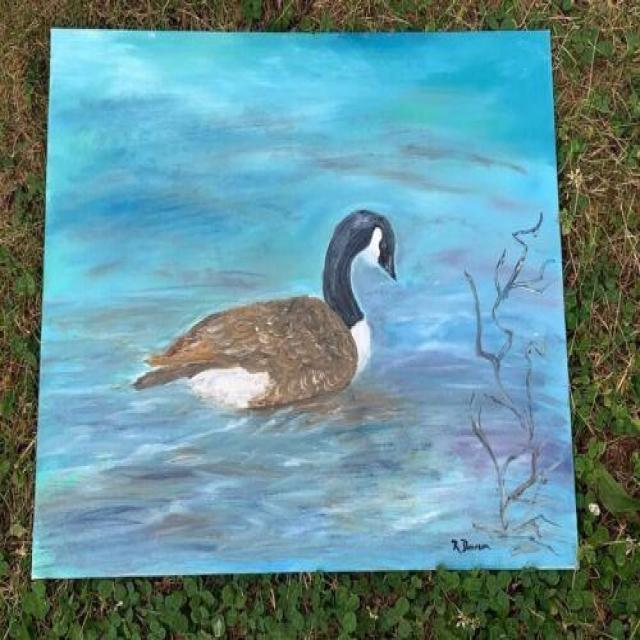painting: (31, 27, 575, 575)
